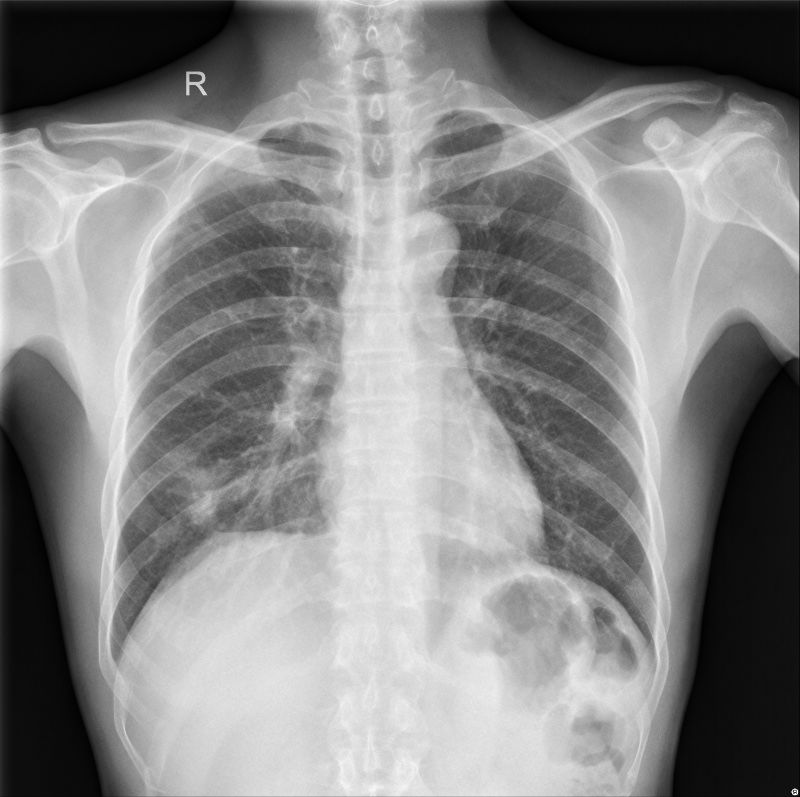Tuberculosis: (164, 454, 232, 528)
